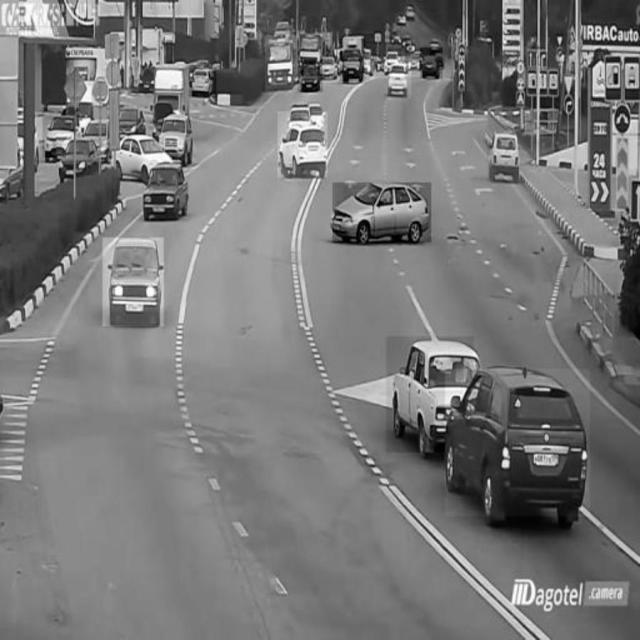vehicle: (445, 369, 591, 516), (386, 337, 474, 453), (333, 183, 431, 243), (103, 238, 164, 326), (277, 112, 327, 178), (112, 133, 172, 184), (142, 163, 190, 223), (57, 135, 108, 187), (486, 123, 522, 180), (43, 108, 79, 158), (266, 36, 298, 92), (340, 40, 365, 82), (389, 57, 411, 99), (189, 67, 216, 97), (300, 60, 324, 92), (419, 48, 443, 78)
